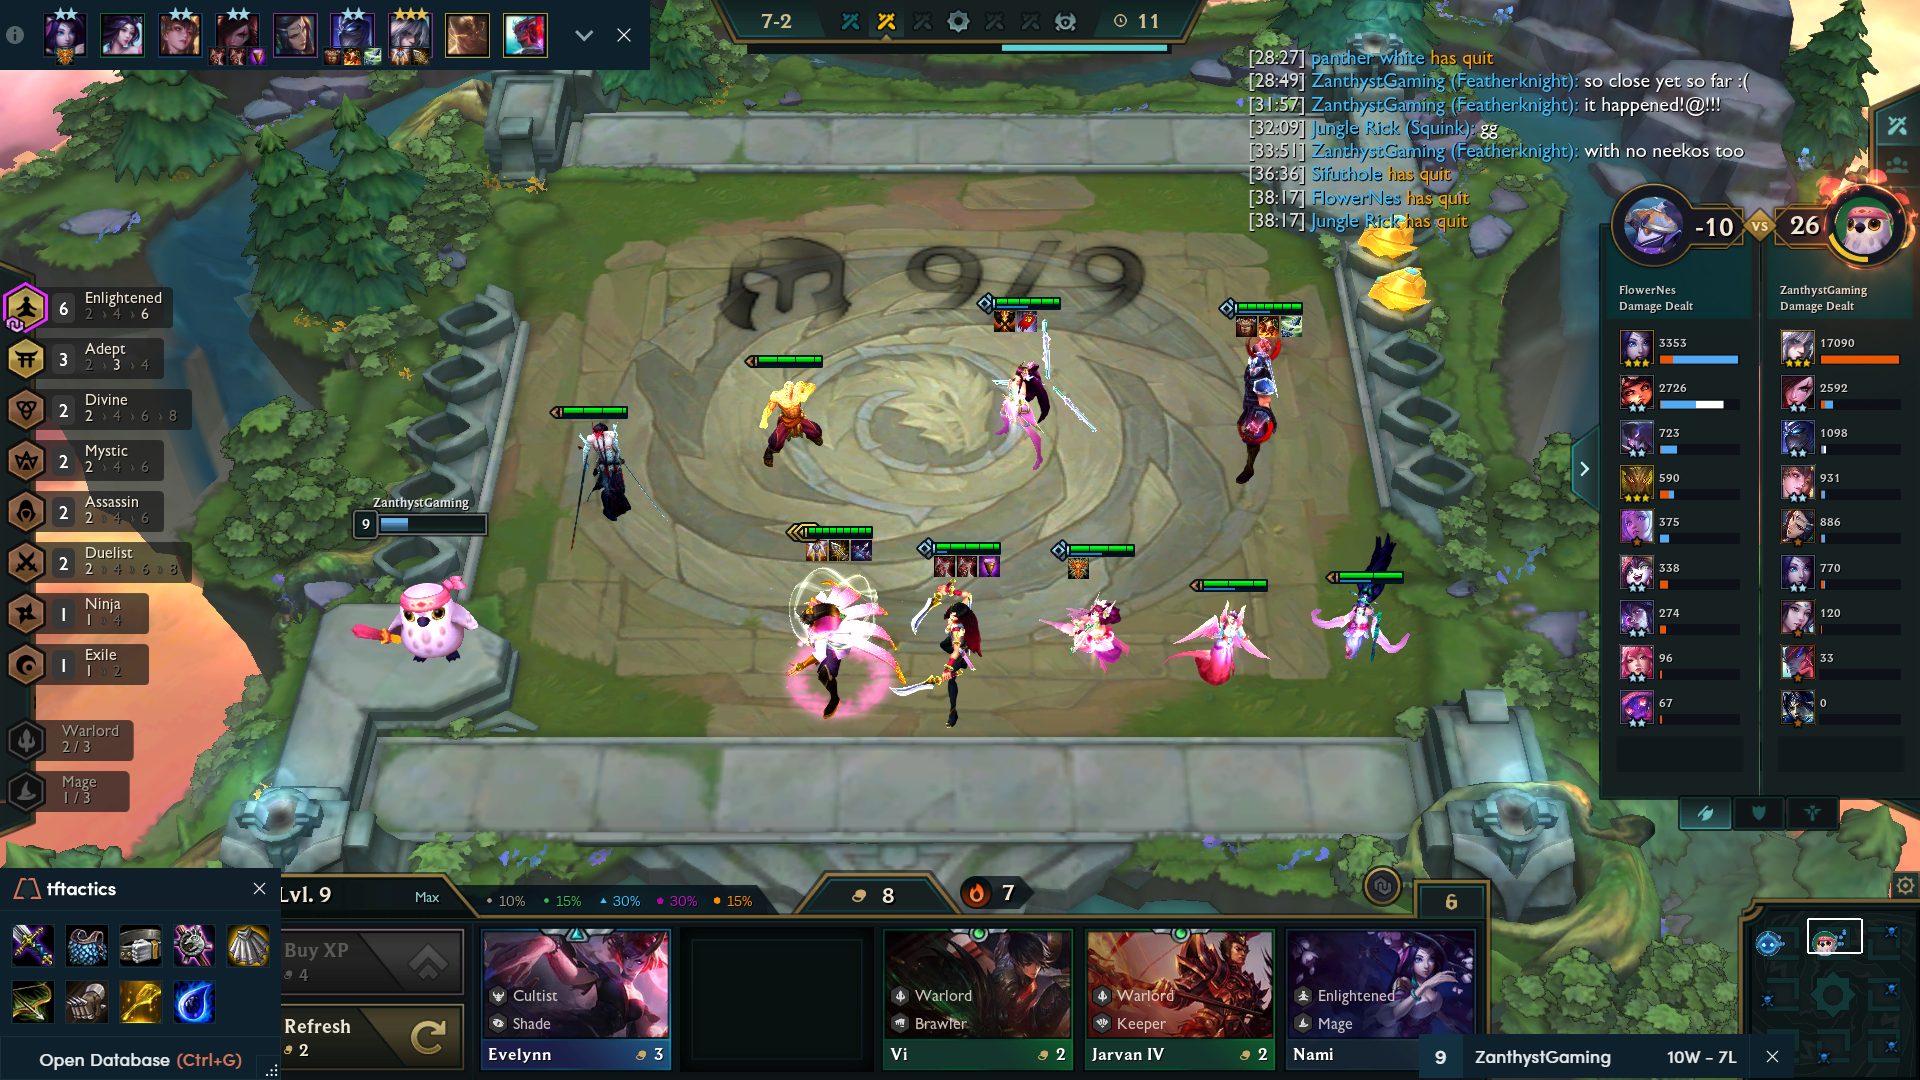1star_janna: (1299, 527, 1425, 698)
1star_leesin: (732, 334, 841, 497)
1star_morgana: (1156, 555, 1282, 724)
1star_yone: (542, 392, 651, 556)
2star_irelia: (963, 287, 1117, 491)
2star_katarina: (882, 533, 1015, 736)
2star_nami: (1031, 531, 1149, 692)
2star_shen: (1196, 291, 1317, 495)
3star_talon: (770, 510, 911, 735)
item_bramble: (1232, 311, 1261, 340)
item_chalice: (976, 551, 1005, 580)
item_duelist: (990, 307, 1019, 336)
item_ga: (803, 535, 832, 564)
item_ie: (827, 537, 856, 566)
item_lastwhisper: (848, 535, 877, 564)
item_locket: (1064, 553, 1093, 582)
item_sunfire: (1255, 311, 1284, 340)
item_warlord: (1013, 305, 1042, 334)
item_zeke: (953, 553, 982, 582), (928, 553, 957, 582)
item_zephyr: (1278, 311, 1307, 340)
trait_adept3: (1, 334, 200, 384)
trait_assassin2: (1, 487, 200, 538)
trait_divine2: (1, 384, 200, 435)
trait_duelist2: (1, 535, 200, 587)
trait_enlightened6: (1, 281, 200, 338)
trait_enlightened_chosen: (1, 280, 51, 335)
trait_exile1: (1, 640, 200, 690)
trait_mage1: (1, 766, 200, 818)
trait_mystic2: (1, 434, 200, 485)
trait_ninja1: (1, 587, 200, 638)
trait_warlord2: (1, 715, 200, 766)
